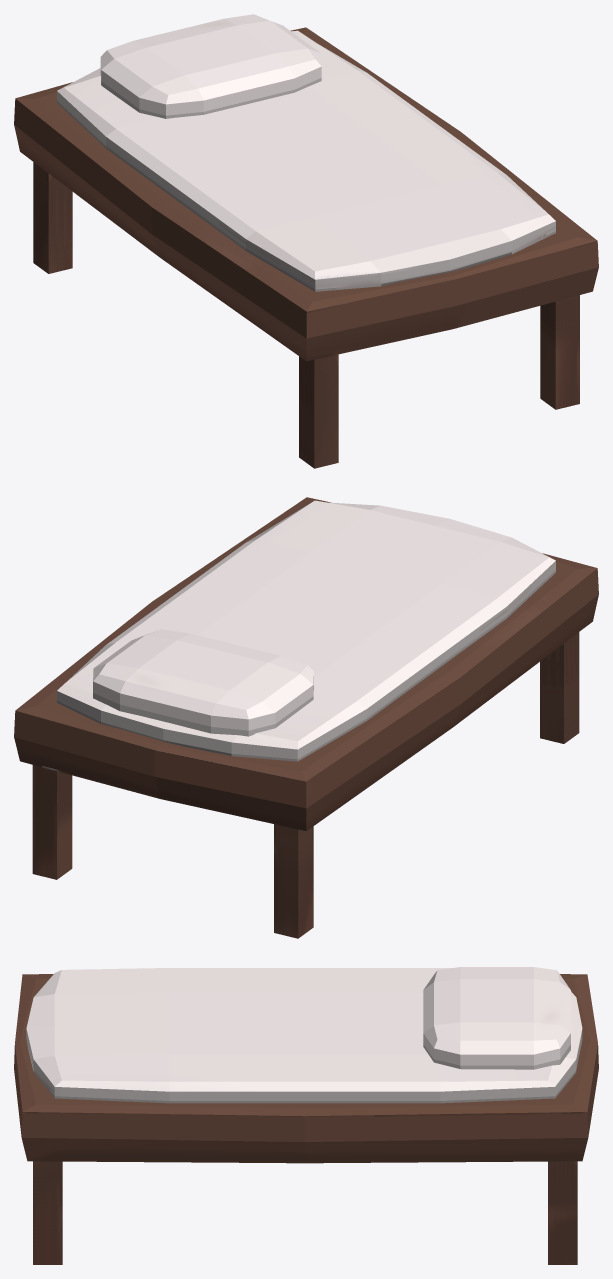
The model's file is CamadeSolteiro.fbx.
3 renders of one model, top to bottom at view 1: azimuth 30°, elevation 25°; view 2: azimuth 150°, elevation 25°; view 3: azimuth 270°, elevation 25°, orthographic. The views are drawn at different scales.
Parts seen in each view (by area): view 1: Beliche; view 2: Beliche; view 3: Beliche.
Part boxes in pixels (x1,y1,x2,y2): Beliche: (14, 14, 598, 468); Beliche: (14, 497, 598, 938); Beliche: (14, 967, 598, 1264).
Size of the model in its own units: 148 by 95.26 by 249.
Materials: 1 (1 with a texture image).
